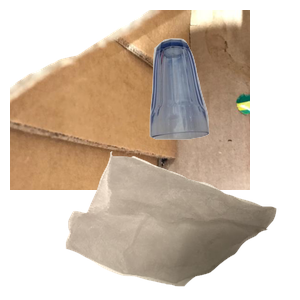cardboard: (10, 10, 250, 190)
glass: (147, 36, 300, 168)
plastic: (92, 176, 257, 300)
trash: (63, 149, 300, 300)
